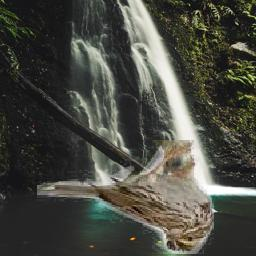Sparrow: (38, 140, 215, 254)
